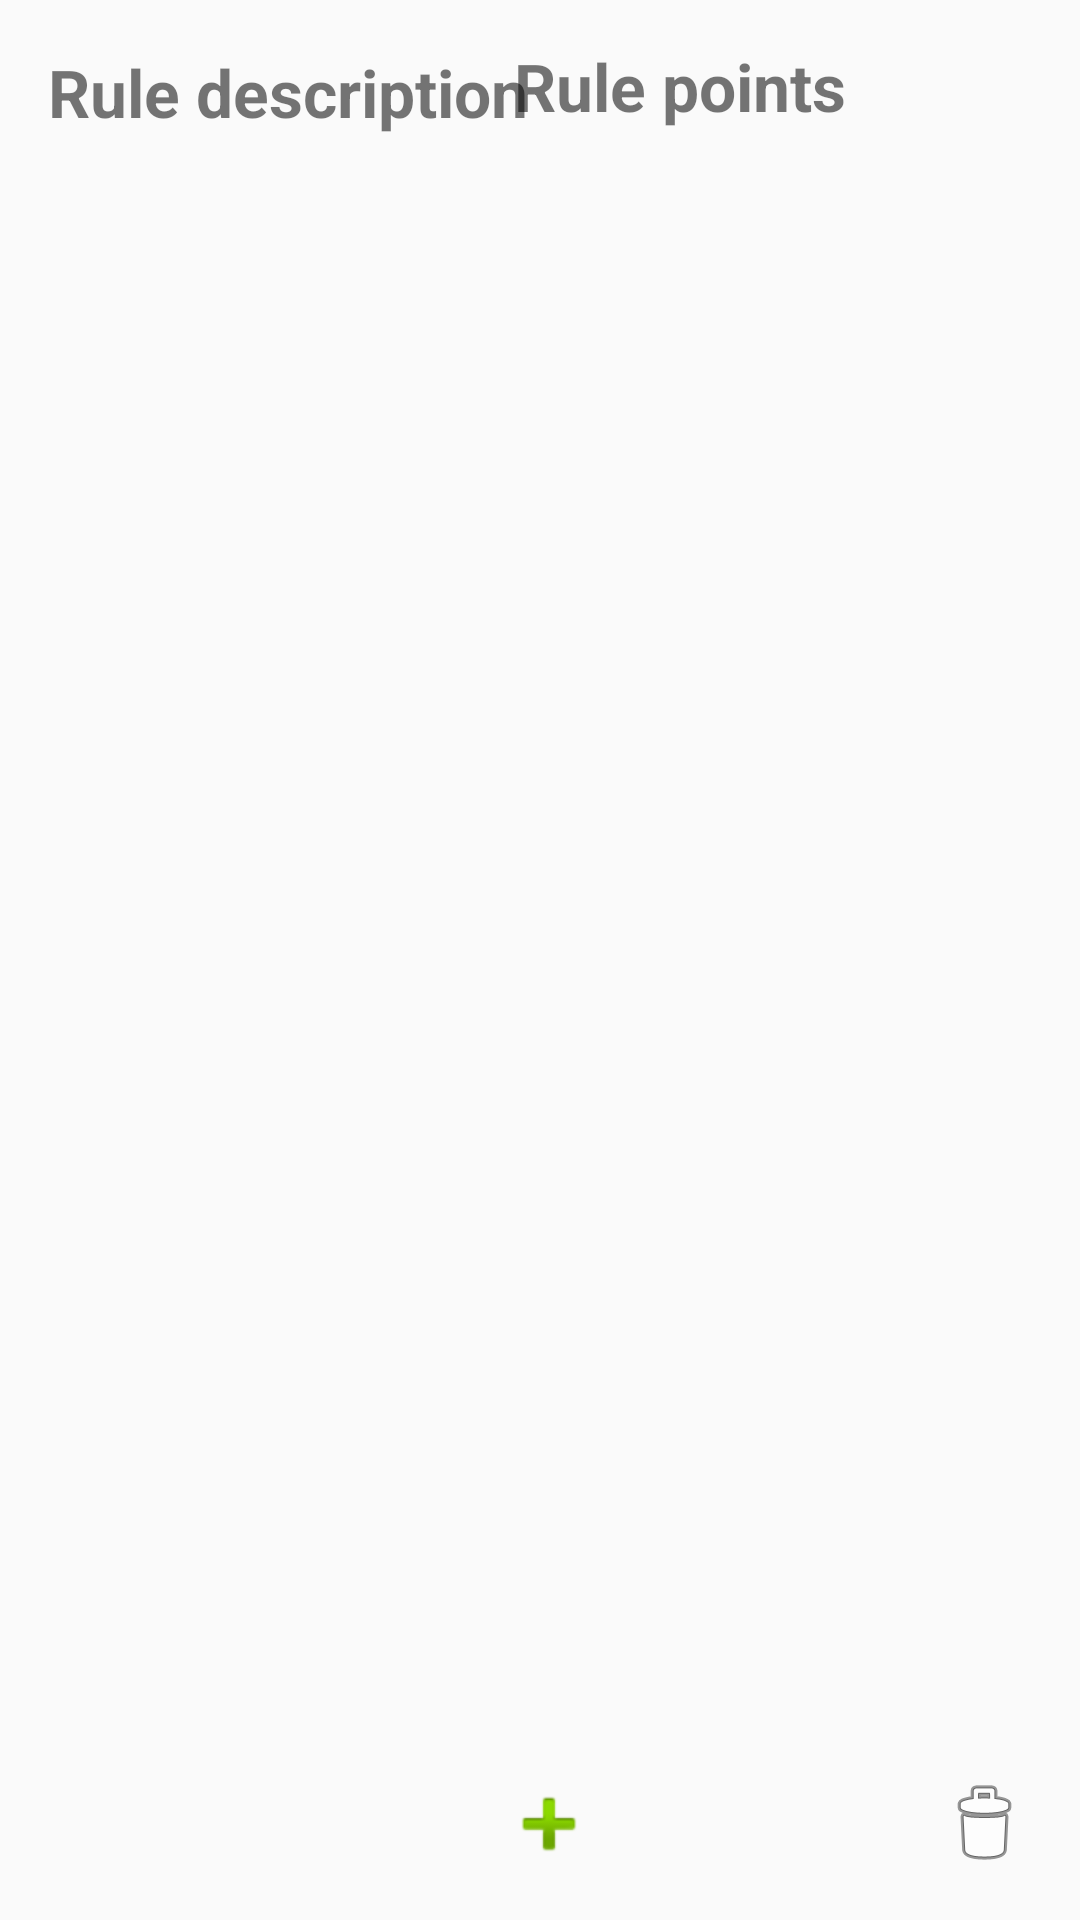

Where icons sit on this 1080px x 1920px app screen, as (x1, y1, x2, y2):
add: (522, 1797, 576, 1851)
delete: (957, 1785, 1012, 1860)
